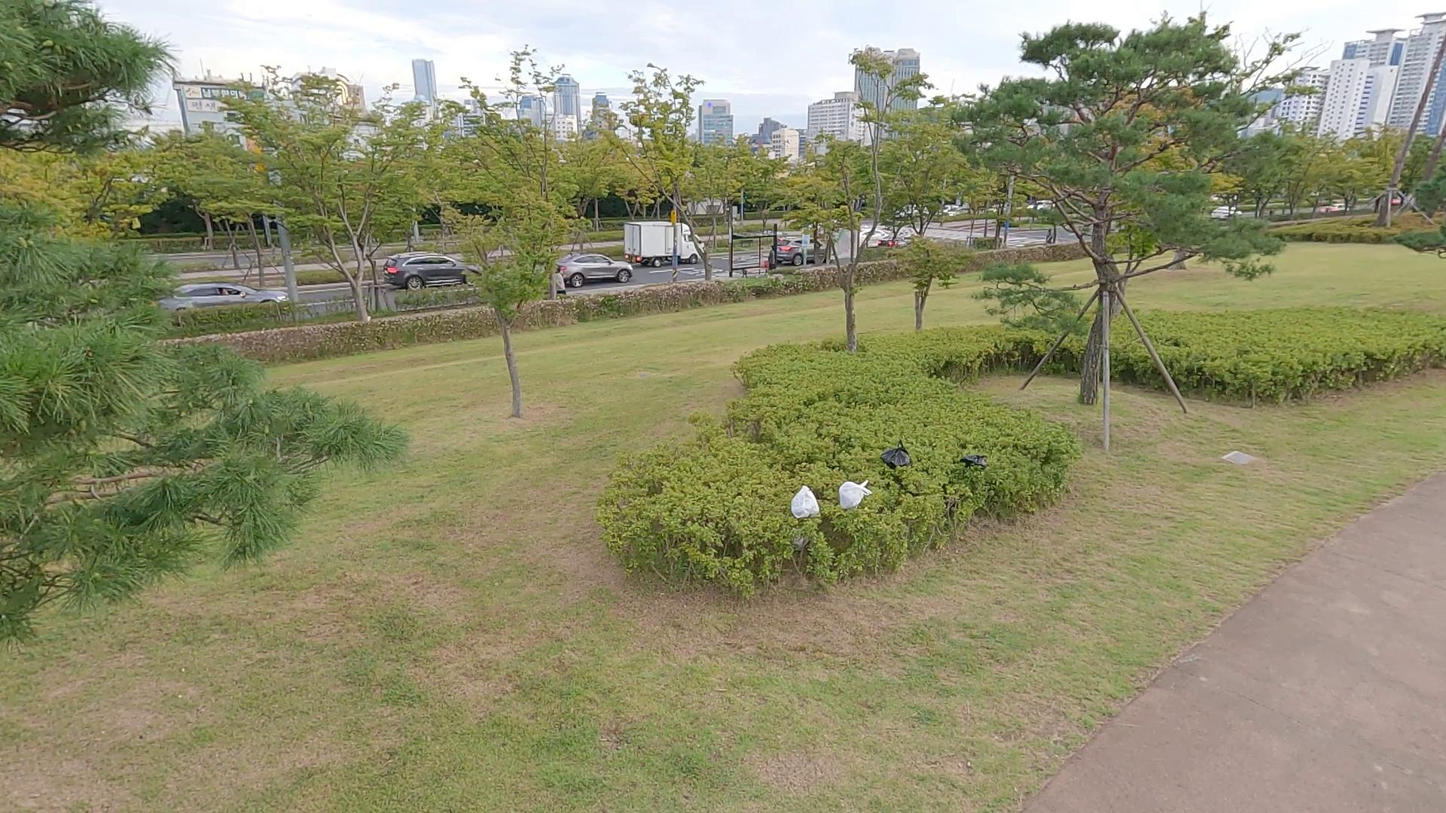trash: (791, 482, 819, 520), (880, 439, 914, 469), (839, 479, 873, 508), (959, 452, 989, 468)
